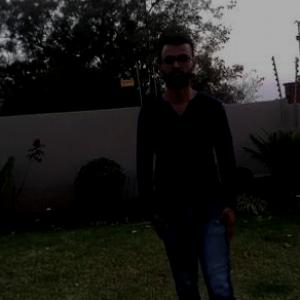follow: (147, 44, 232, 299)
